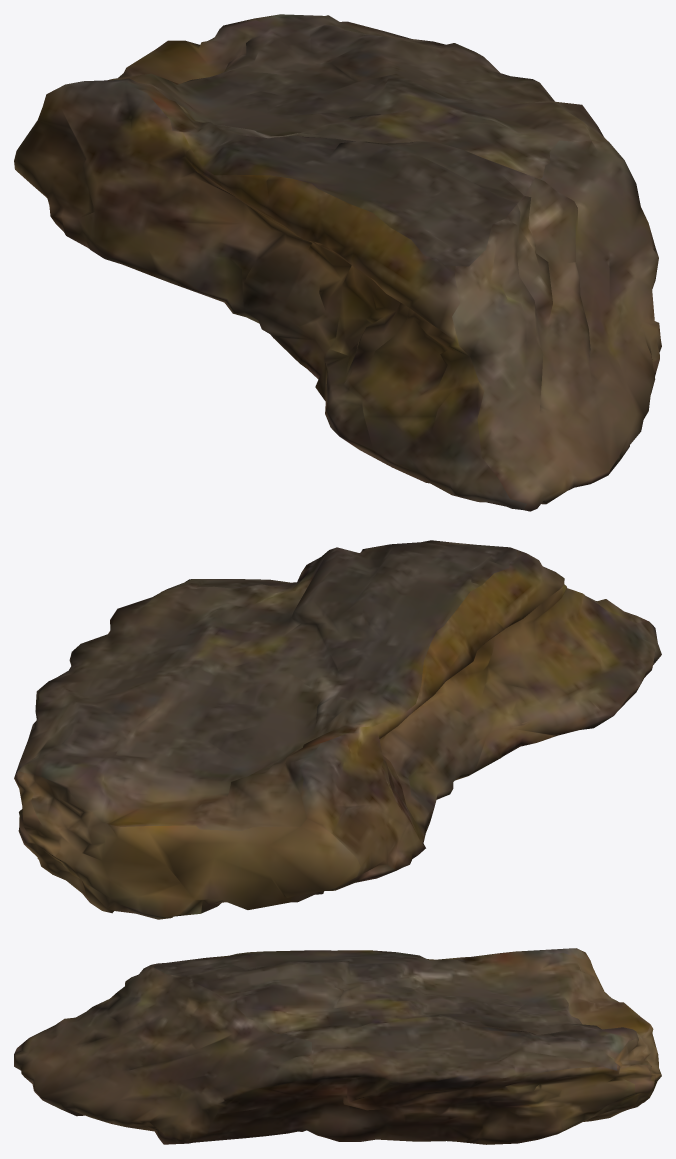
The model's file is NAT_Rock09_lod.glb.
The picture shows the model from 3 angles, top to bottom: view 1: azimuth 30°, elevation 25°; view 2: azimuth 150°, elevation 25°; view 3: azimuth 270°, elevation 25°; orthographic projection. The views are drawn at different scales.
Visible parts, largest first — view 1: rock_09_LOD0; view 2: rock_09_LOD0; view 3: rock_09_LOD0.
Boxes of the visible parts, <box> form: rock_09_LOD0: <box>14,14,661,511</box>; rock_09_LOD0: <box>14,540,661,919</box>; rock_09_LOD0: <box>14,948,661,1144</box>.
Bounding box in the file's own units: 0.0739 × 0.0328 × 0.1446.
Materials: 1 (1 with a texture image).
